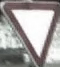Give way: (1, 1, 56, 63)
